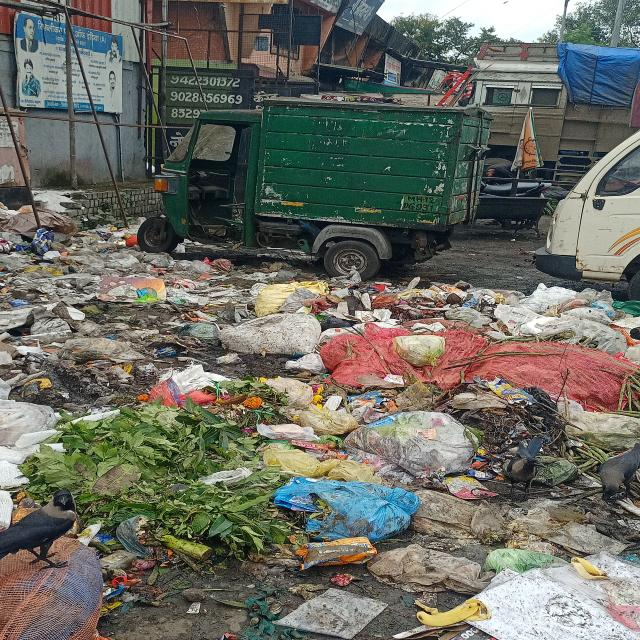garbage: (1, 276, 640, 640), (0, 208, 194, 276)
